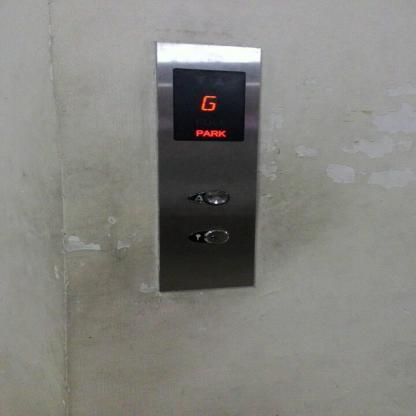key: (186, 228, 232, 244)
led: (172, 68, 246, 142)
up: (185, 189, 230, 205)
